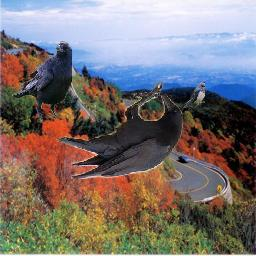Crow: (57, 81, 184, 180), (12, 41, 72, 123)
Swallow: (183, 82, 206, 108)
